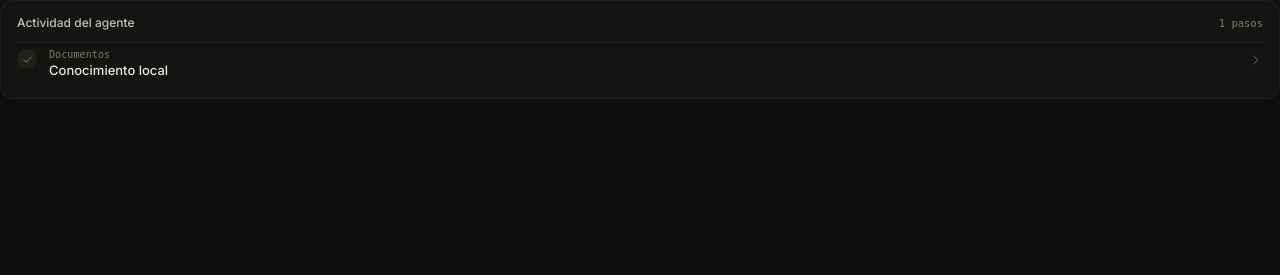
Test: AgentTrace › despliega el detalle de una fuente al abrirla
This screenshot has width=1280, height=275.
Click the button with aria-label "Ver detalle de Conocimiento local" at (80, 54), box [49, 49, 1263, 92]
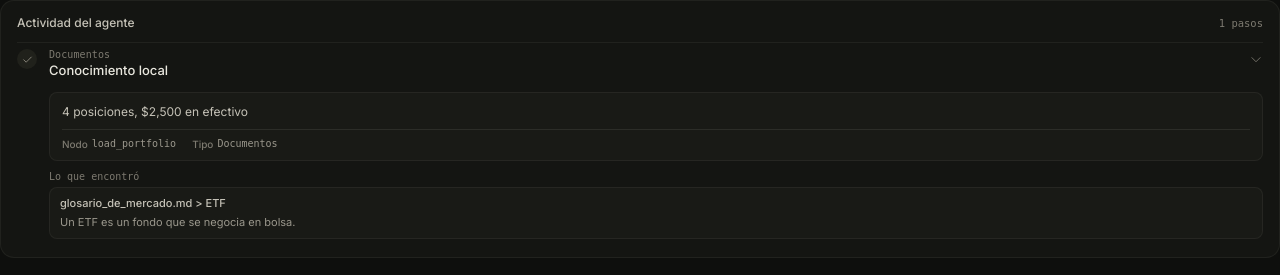
Check: the text "Un ETF es un fondo que se negocia en bolsa." is shown, box [60, 214, 296, 228]
